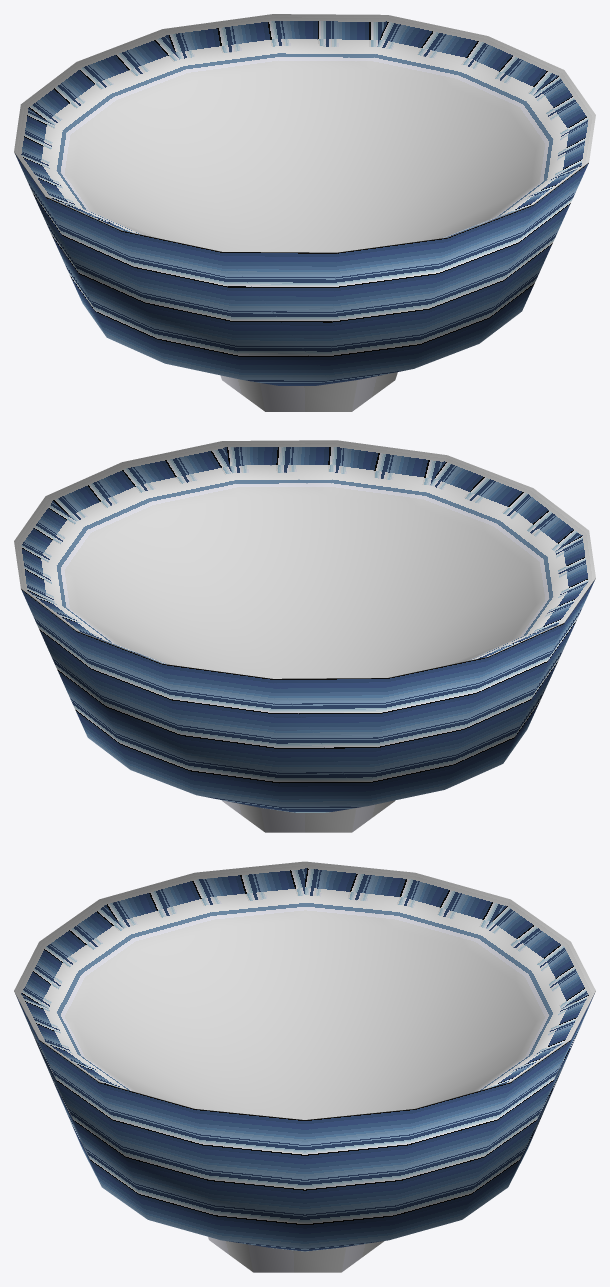
The model's file is udon.gltf.
The picture shows the model from 3 angles, top to bottom: view 1: azimuth 30°, elevation 25°; view 2: azimuth 150°, elevation 25°; view 3: azimuth 270°, elevation 25°; orthographic projection. The views are drawn at different scales.
Parts seen in each view (by area): view 1: udon; view 2: udon; view 3: udon.
Boxes of the visible parts, x1=… form: udon: x1=14, y1=14, x2=595, y2=411; udon: x1=14, y1=440, x2=595, y2=832; udon: x1=14, y1=861, x2=595, y2=1272.
Size of the model in its own units: 0.7798 by 0.3689 by 0.7417.
Materials: 1 (1 with a texture image).
